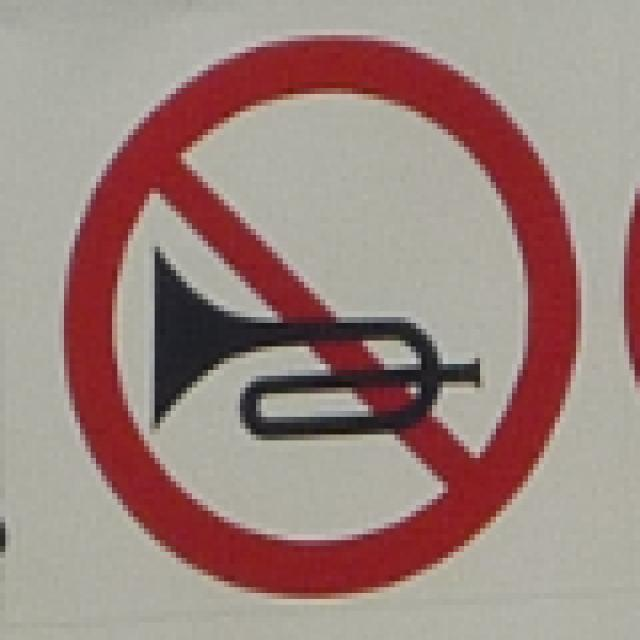No Horn: (56, 28, 595, 591)
